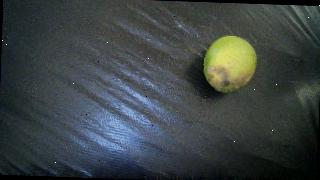DESECHO: (203, 35, 258, 94)
